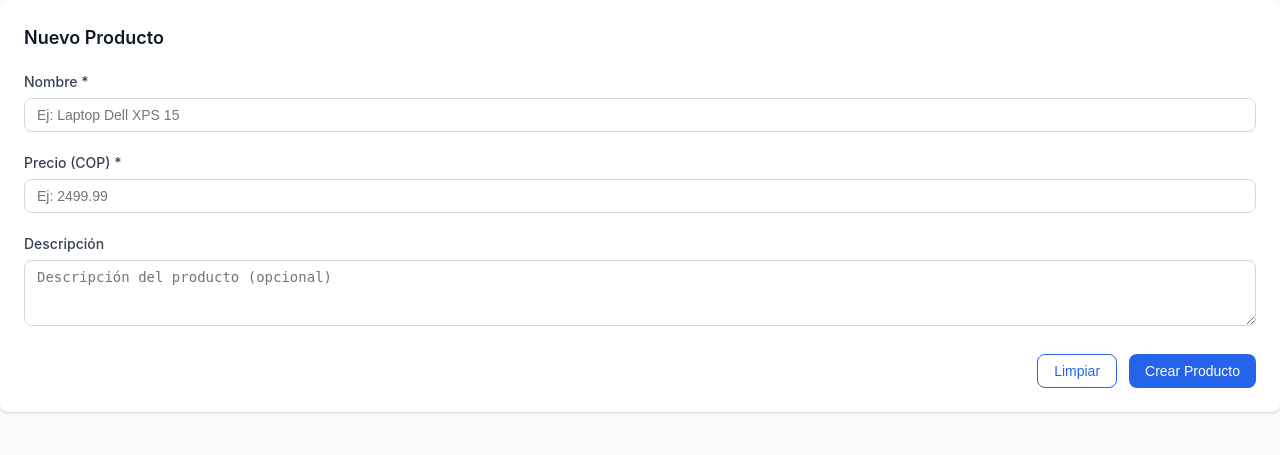
Test: ProductForm › muestra error cuando precio es 0 o negativo
The image size is (1280, 455).
Type "Laptop" into the field with id "nombre" at x=640, y=115, box [24, 98, 1256, 132]
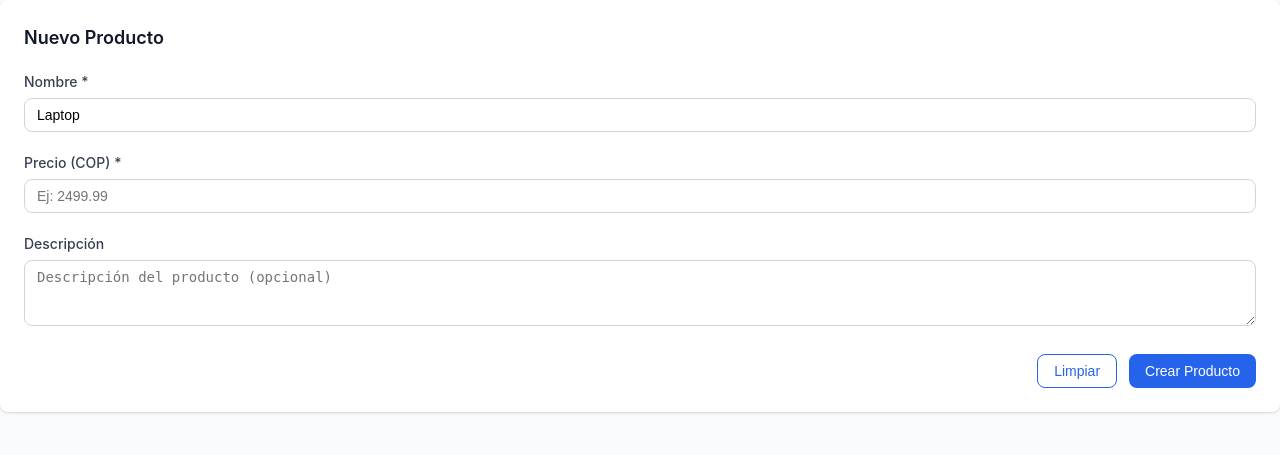
Type "-10" into the number field labelled "Precio (COP) *" at x=640, y=196, box [24, 179, 1256, 213]
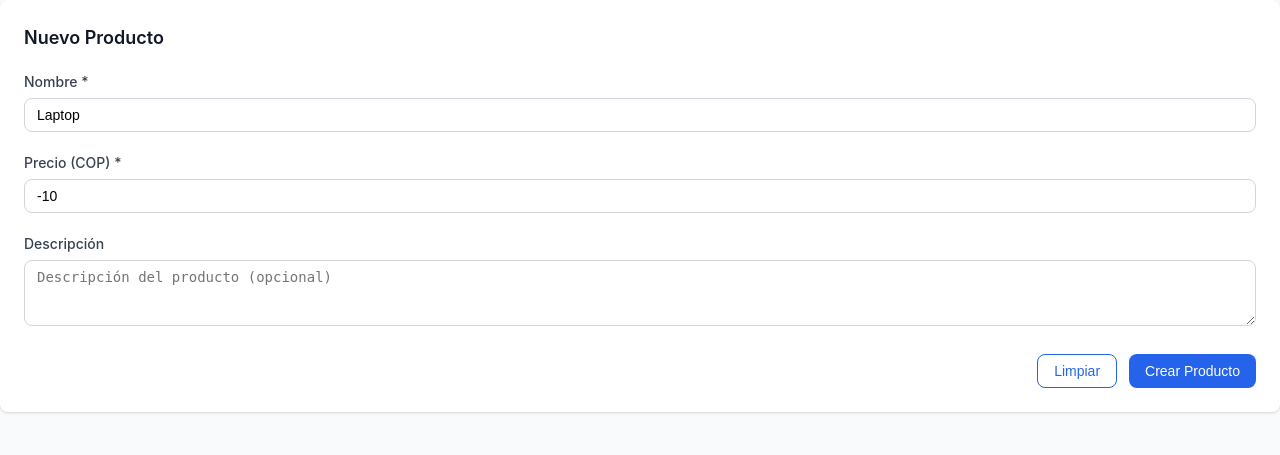
Submit the form
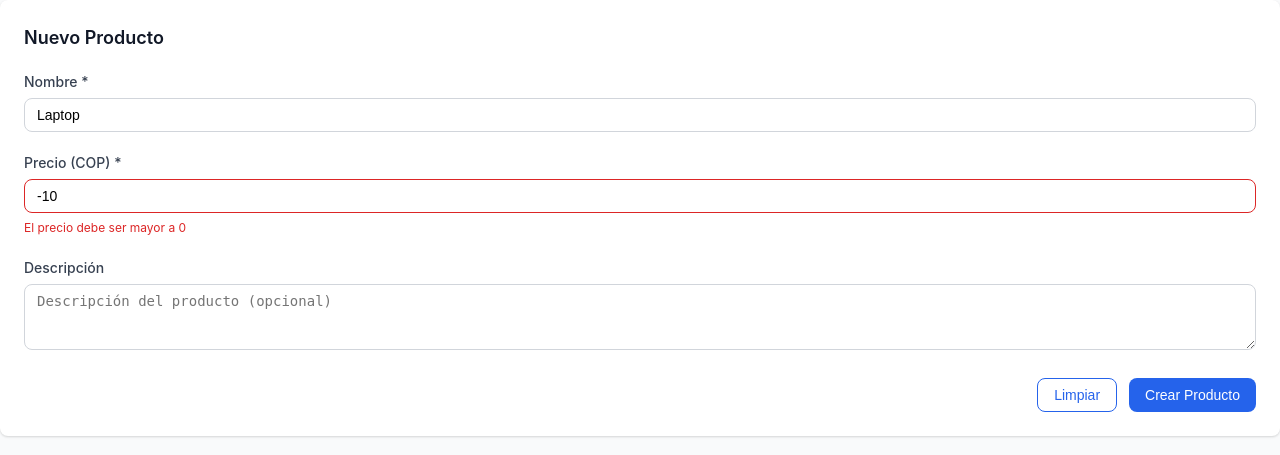
Expected: the form shows "mayor a 0", [24, 220, 186, 235]
